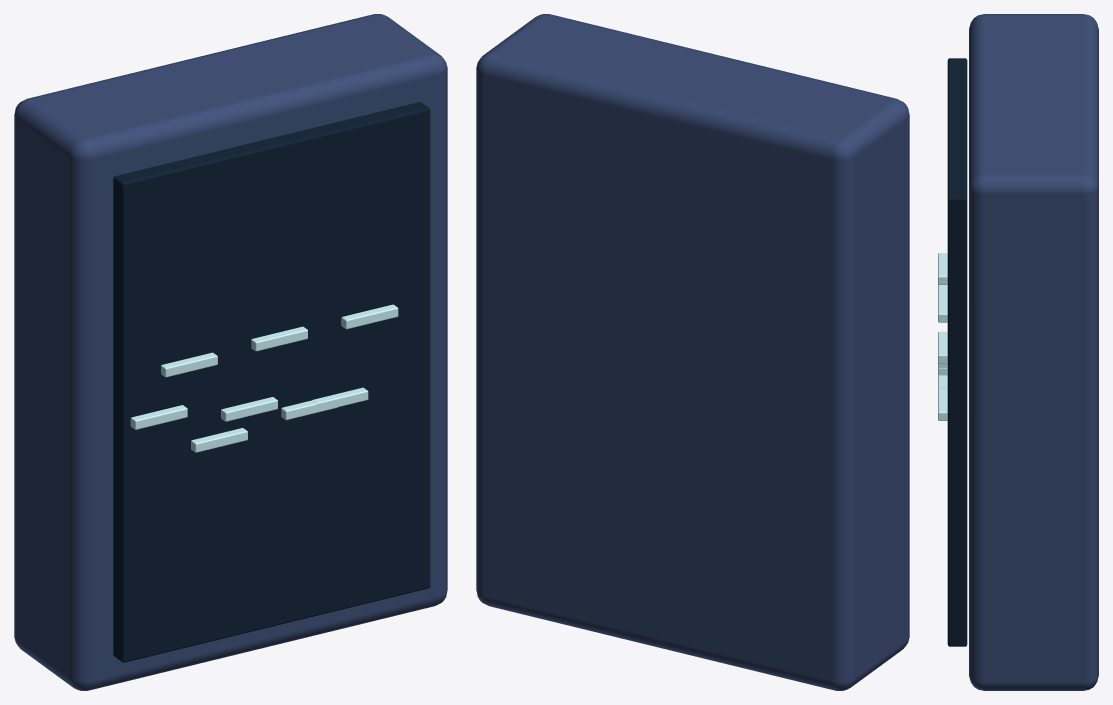
File: tablet.glb
3 renders of one model, left to right at view 1: azimuth 30°, elevation 25°; view 2: azimuth 150°, elevation 25°; view 3: azimuth 270°, elevation 25°, orthographic. The views are drawn at different scales.
Parts seen in each view (by area): view 1: display glass, display frame, screen trace (×7); view 2: display frame; view 3: display frame, display glass, screen trace (×4).
Boxes of the visible parts, box(x1,y1,x2,y2) form: display glass: box(113, 102, 430, 662); display frame: box(14, 14, 447, 690); screen trace (×7): box(130, 304, 398, 452); display frame: box(476, 14, 909, 690); display frame: box(969, 14, 1098, 690); display glass: box(947, 58, 967, 646); screen trace (×4): box(938, 253, 947, 420).
Bounding box in the file's own units: 0.25 × 0.35 × 0.099.
